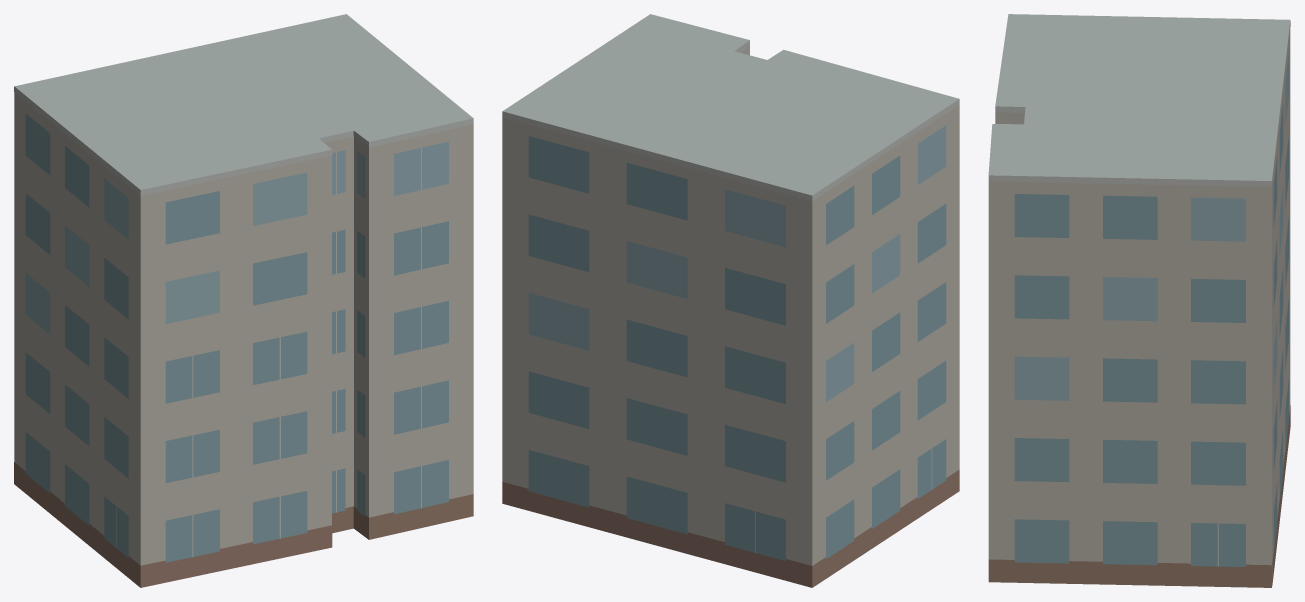
Rendered from survey-upis-32877312.glb.
3 views of the same model, side by side, from view 1: azimuth 30°, elevation 25°; view 2: azimuth 150°, elevation 25°; view 3: azimuth 270°, elevation 25° (orthographic). The views are drawn at different scales.
Visible parts, largest first — view 1: survey-upis-32877312.tmp; view 2: survey-upis-32877312.tmp; view 3: survey-upis-32877312.tmp.
Part boxes in pixels (box(x1,y1,x2,y2)): survey-upis-32877312.tmp: box(14, 14, 473, 587); survey-upis-32877312.tmp: box(502, 14, 959, 587); survey-upis-32877312.tmp: box(988, 14, 1290, 587).
Bounding box in the file's own units: 14.72 × 16.7 × 11.25.
